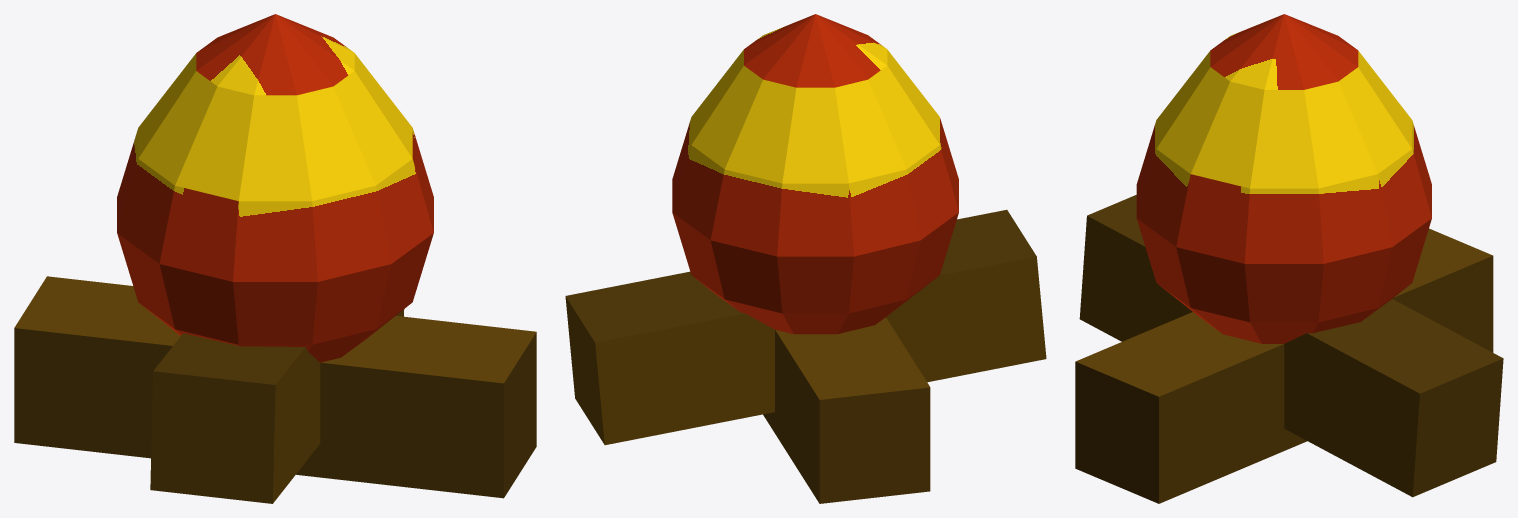
File: camp_fire_1.gltf
3 renders of one model, left to right at view 1: azimuth 30°, elevation 25°; view 2: azimuth 150°, elevation 25°; view 3: azimuth 270°, elevation 25°, orthographic. The views are drawn at different scales.
Parts seen in each view (by area): view 1: sphere; view 2: sphere; view 3: sphere.
Part boxes in pixels (x1,y1,x2,y2): sphere: (14,14,536,503); sphere: (565,14,1046,503); sphere: (1075,14,1503,503).
Bounding box in the file's own units: 9.06 × 9.38 × 9.06.
Materials: 1 (1 with a texture image).
